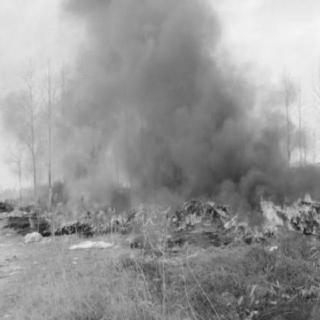Fire: (29, 175, 319, 253)
